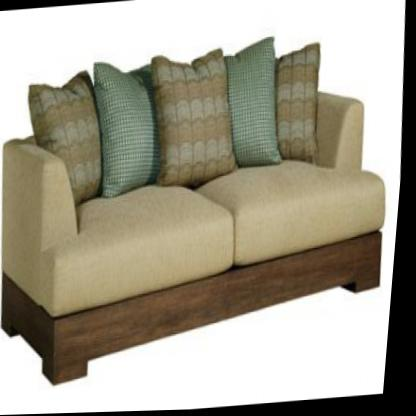Sofa: (0, 34, 407, 393)
